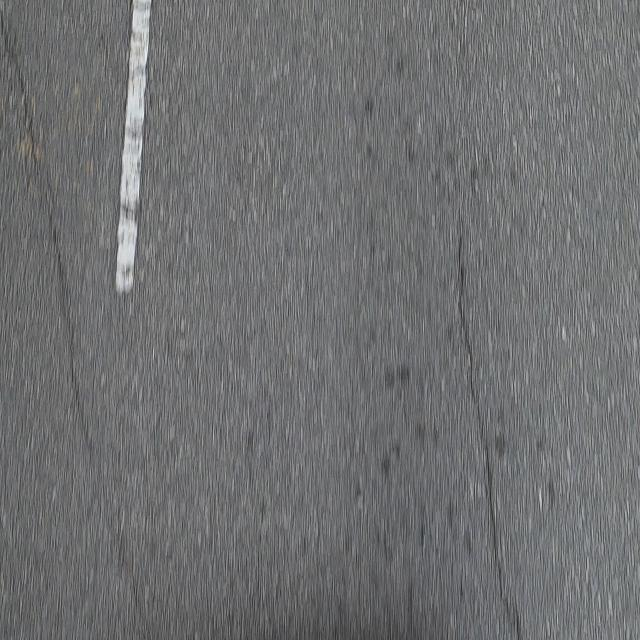Retak-Memanjang: (0, 0, 98, 461), (453, 219, 525, 640)
